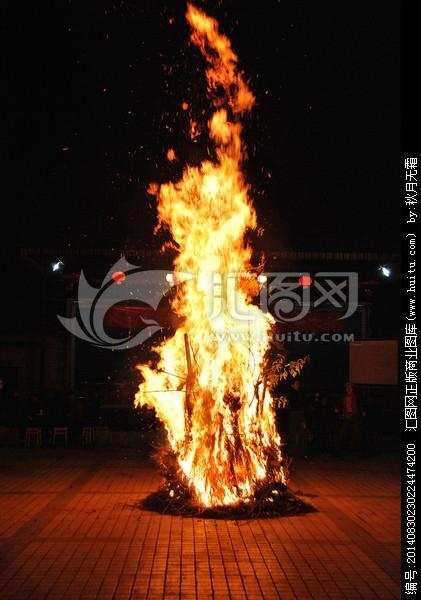fire: (134, 0, 303, 528)
